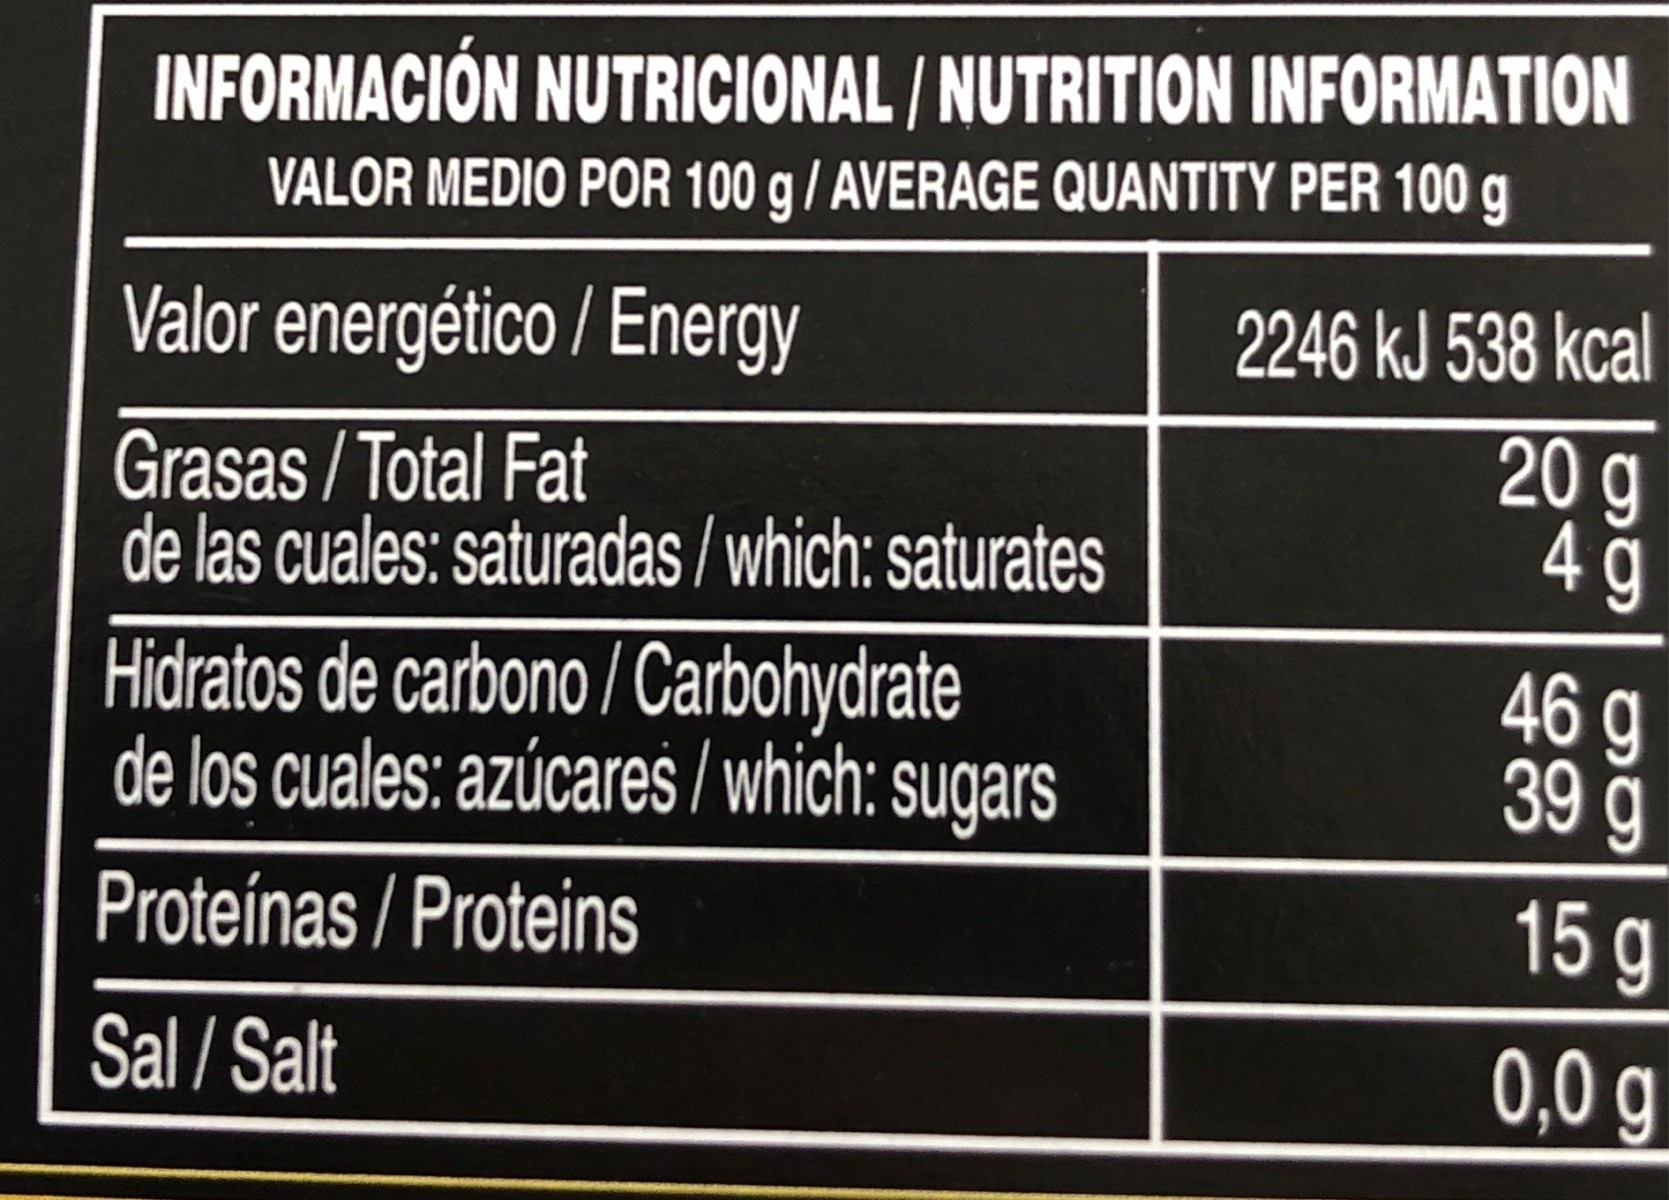column: (93, 270, 1107, 1107), (1230, 303, 1669, 1143)
table: (32, 9, 1669, 1173)
